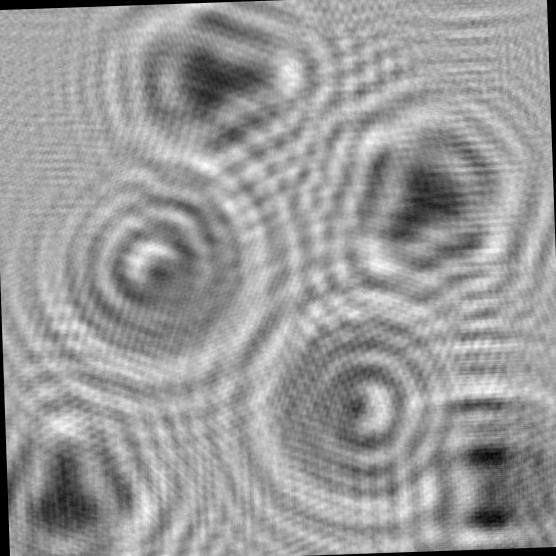A: (290, 65, 556, 340), (79, 0, 354, 201), (3, 363, 180, 556)
C: (0, 128, 311, 413), (212, 266, 489, 556)
E: (373, 375, 556, 552)
